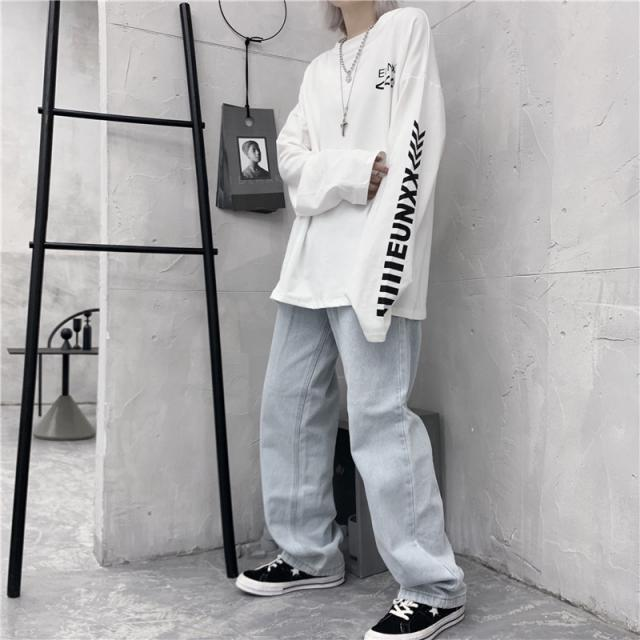Shirt: (266, 8, 442, 340)
